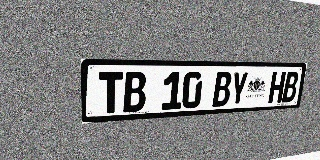0: (182, 72, 203, 109)
1: (161, 72, 183, 110)
B: (123, 72, 146, 112), (212, 72, 232, 107), (282, 72, 299, 103)
H: (268, 72, 286, 103)
T: (99, 72, 123, 114)
Y: (229, 72, 249, 106)
